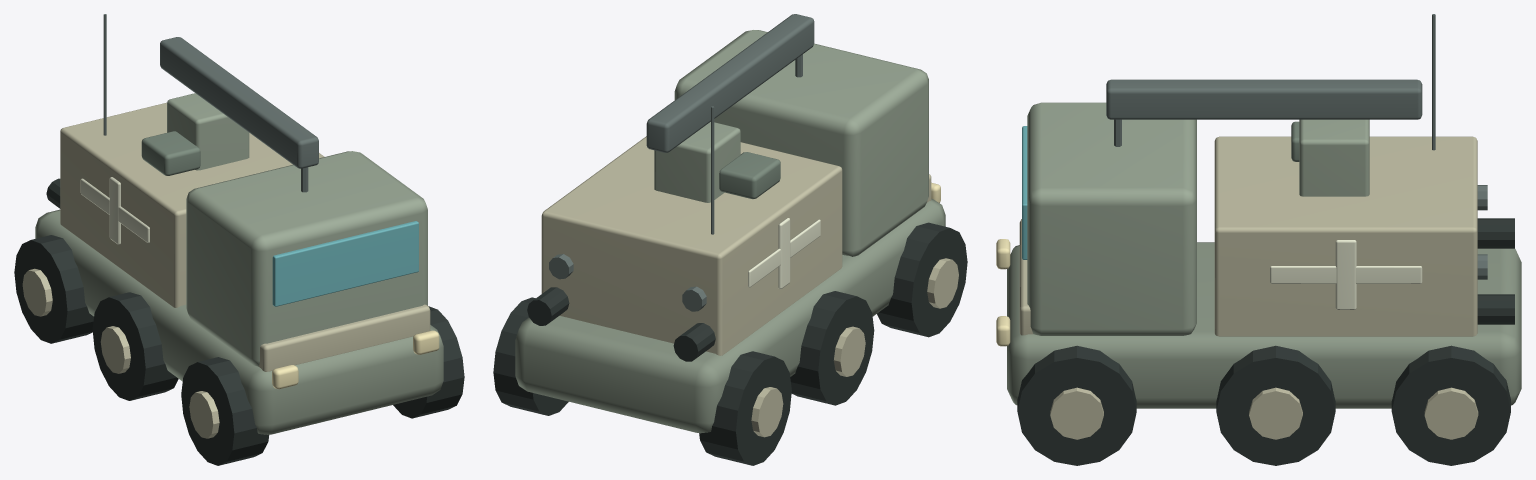
The model's file is repair.glb.
3 views of the same model, side by side, from view 1: azimuth 30°, elevation 25°; view 2: azimuth 150°, elevation 25°; view 3: azimuth 270°, elevation 25° (orthographic). The views are drawn at different scales.
Visible parts, largest first — view 1: Chassis, TurretArmor; view 2: Chassis, TurretArmor; view 3: Chassis, TurretArmor.
Boxes of the visible parts, box(x1,y1,x2,y2) form: Chassis: box(14, 14, 464, 465); TurretArmor: box(141, 37, 318, 192); Chassis: box(493, 30, 967, 465); TurretArmor: box(646, 14, 814, 202); Chassis: box(996, 14, 1521, 465); TurretArmor: box(1106, 79, 1422, 196).
Size of the model in its own units: 2.69 by 3.36 by 4.49.
